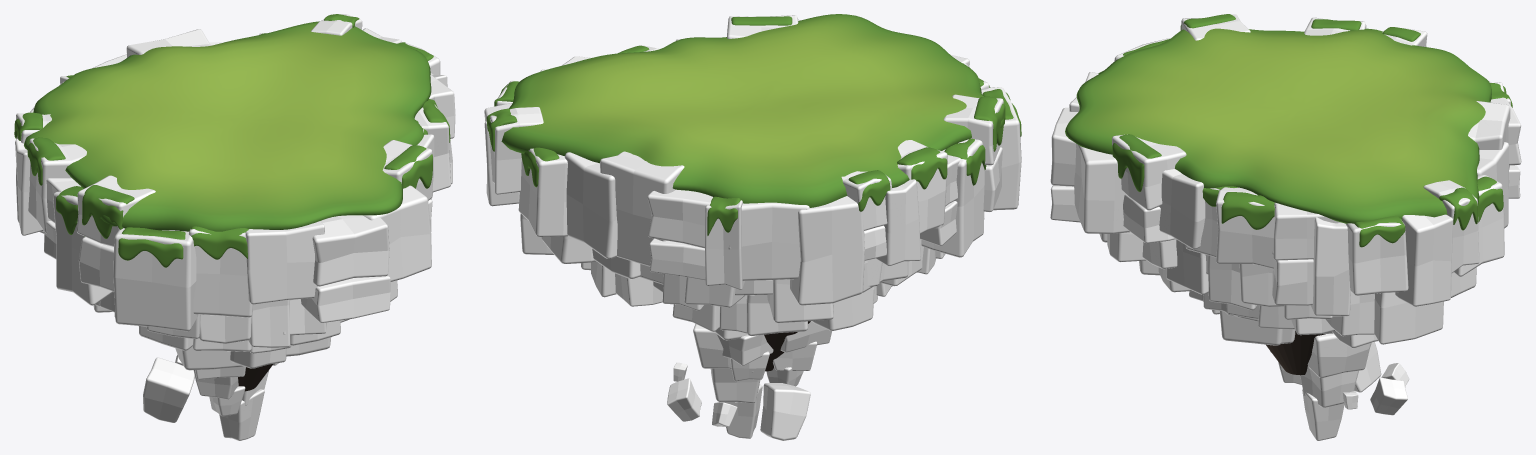
File: IFK01_K1R2_A_M20MC.glb
3 views of the same model, side by side, from view 1: azimuth 30°, elevation 25°; view 2: azimuth 150°, elevation 25°; view 3: azimuth 270°, elevation 25° (orthographic).
Parts seen in each view (by area): view 1: IFK2_A_GROUND, IFK2_A_B0_021, IFK2_A_B0_023, IFK2_A_B0_024a, IFK2_A_B0_022, IFK2_A_B0_026, IFK2_A_B0_024b, IFK2_A_FLOAT_0, IFK2_A_B0_018, IFK2_A_B0_015, IFK2_A_B1_049, IFK2_A_B0_021_DRAPE (+29 smaller); view 2: IFK2_A_GROUND, IFK2_A_B0_011, IFK2_A_B0_006, IFK2_A_B0_010, IFK2_A_B0_005, IFK2_A_B0_004, IFK2_A_B0_007a, IFK2_A_B0_018, IFK2_A_B0_014, IFK2_A_B0_009, IFK2_A_FLOAT_0, IFK2_A_B0_003 (+40 smaller); view 3: IFK2_A_GROUND, IFK2_A_B0_002, IFK2_A_B0_026, IFK2_A_B0_001, IFK2_A_B0_000, IFK2_A_B0_029, IFK2_A_B0_031, IFK2_A_B1_060, IFK2_A_B0_027a, IFK2_A_B0_032a, IFK2_A_B0_032b, IFK2_A_SPIRE0_0 (+32 smaller).
Part boxes in pixels (x1=…): IFK2_A_GROUND: x1=24, y1=21, x2=431, y2=231; IFK2_A_B0_021: x1=113, y1=228, x2=198, y2=331; IFK2_A_B0_023: x1=245, y1=221, x2=324, y2=304; IFK2_A_B0_024a: x1=312, y1=215, x2=389, y2=286; IFK2_A_B0_022: x1=189, y1=229, x2=253, y2=317; IFK2_A_B0_026: x1=363, y1=185, x2=431, y2=281; IFK2_A_B0_024b: x1=301, y1=275, x2=390, y2=322; IFK2_A_FLOAT_0: x1=143, y1=357, x2=194, y2=422; IFK2_A_B0_018: x1=53, y1=191, x2=113, y2=305; IFK2_A_B0_015: x1=28, y1=138, x2=86, y2=233; IFK2_A_B1_049: x1=248, y1=299, x2=290, y2=347; IFK2_A_B0_021_DRAPE: x1=118, y1=227, x2=185, y2=267; IFK2_A_GROUND: x1=501, y1=14, x2=1004, y2=207; IFK2_A_B0_011: x1=790, y1=196, x2=864, y2=305; IFK2_A_B0_006: x1=600, y1=151, x2=684, y2=266; IFK2_A_B0_010: x1=728, y1=202, x2=809, y2=280; IFK2_A_B0_005: x1=564, y1=152, x2=617, y2=258; IFK2_A_B0_004: x1=518, y1=148, x2=567, y2=236; IFK2_A_B0_007a: x1=647, y1=189, x2=712, y2=248; IFK2_A_B0_018: x1=921, y1=139, x2=984, y2=257; IFK2_A_B0_014: x1=875, y1=179, x2=920, y2=265; IFK2_A_B0_009: x1=705, y1=200, x2=744, y2=289; IFK2_A_FLOAT_0: x1=760, y1=383, x2=810, y2=440; IFK2_A_B0_003: x1=490, y1=107, x2=543, y2=194; IFK2_A_GROUND: x1=1065, y1=28, x2=1491, y2=223; IFK2_A_B0_002: x1=1395, y1=214, x2=1453, y2=306; IFK2_A_B0_026: x1=1074, y1=143, x2=1129, y2=233; IFK2_A_B0_001: x1=1346, y1=219, x2=1408, y2=295; IFK2_A_B0_000: x1=1311, y1=217, x2=1350, y2=316; IFK2_A_B0_029: x1=1159, y1=169, x2=1205, y2=249; IFK2_A_B0_031: x1=1216, y1=187, x2=1274, y2=268; IFK2_A_B1_060: x1=1374, y1=292, x2=1443, y2=344; IFK2_A_B0_027a: x1=1112, y1=134, x2=1186, y2=210; IFK2_A_B0_032a: x1=1273, y1=202, x2=1339, y2=260; IFK2_A_B0_032b: x1=1272, y1=251, x2=1313, y2=305; IFK2_A_SPIRE0_0: x1=1307, y1=333, x2=1371, y2=377.
Size of the model in its own units: 142 by 108 by 139.
